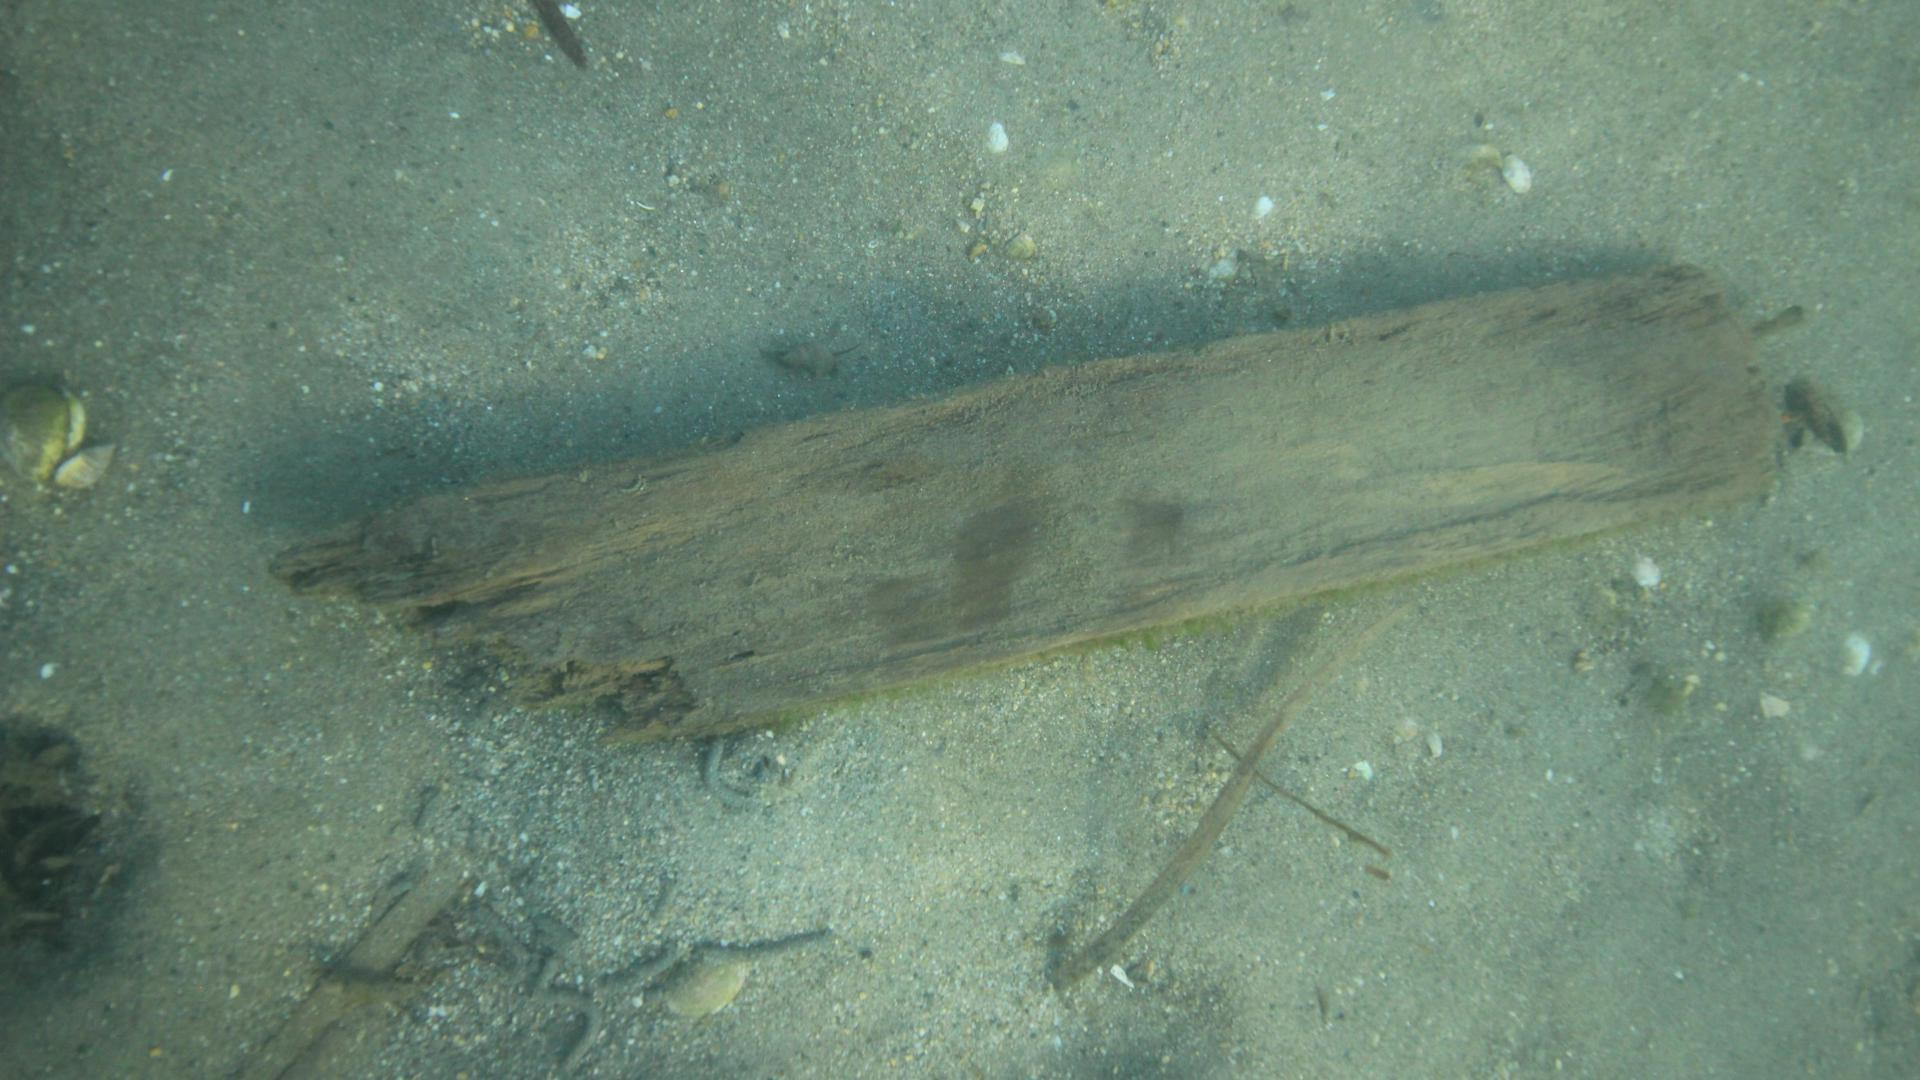wood: (266, 260, 1778, 746)
